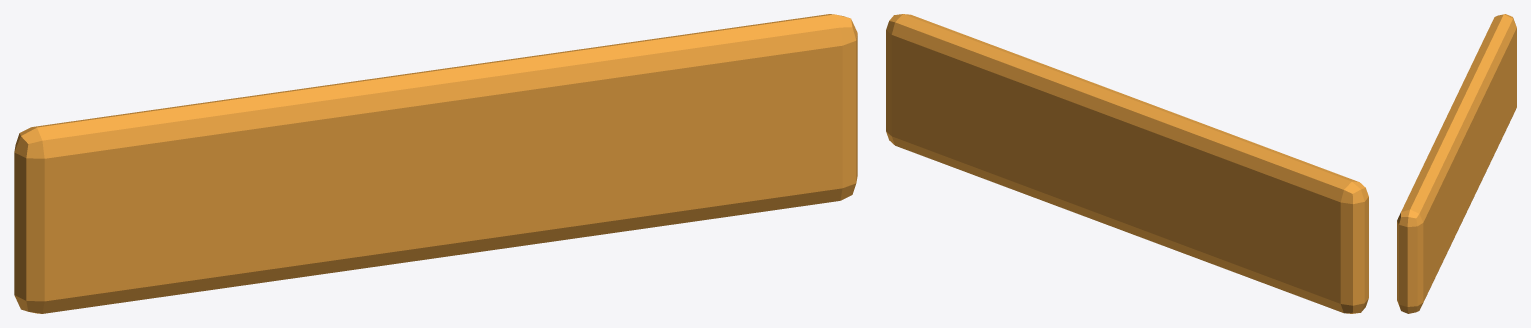
The model's file is Repair_TapeStrip_B.glb.
3 views of the same model, side by side, from view 1: azimuth 30°, elevation 25°; view 2: azimuth 150°, elevation 25°; view 3: azimuth 270°, elevation 25° (orthographic). The views are drawn at different scales.
Parts seen in each view (by area): view 1: Repair_TapeStrip_B; view 2: Repair_TapeStrip_B; view 3: Repair_TapeStrip_B.
Part boxes in pixels (x1=…): Repair_TapeStrip_B: x1=14, y1=14, x2=857, y2=313; Repair_TapeStrip_B: x1=886, y1=14, x2=1368, y2=313; Repair_TapeStrip_B: x1=1397, y1=14, x2=1516, y2=313.
Size of the model in its own units: 0.5096 by 0.12 by 0.1252.
